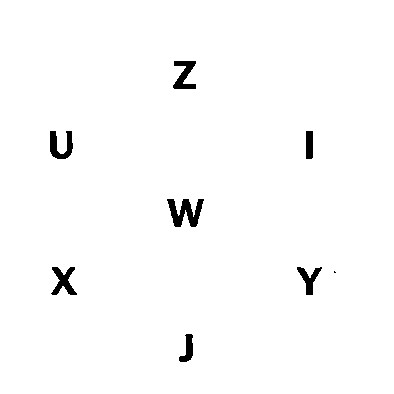I: (297, 124, 320, 168)
U: (45, 126, 76, 164)
